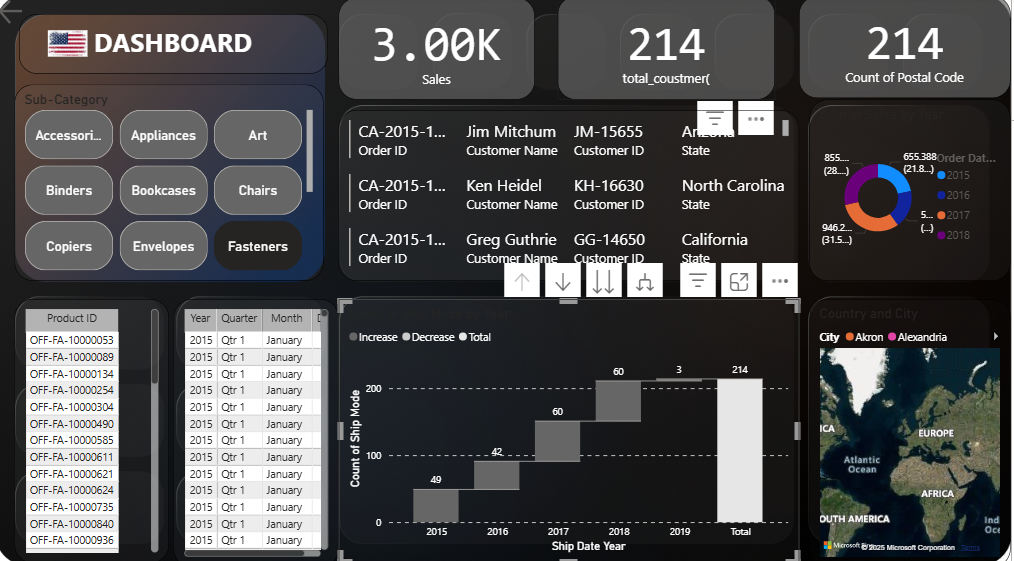

The dashboard page shown, as its layout file describes it:
{"tool":"powerbi","page":{"name":"Page 1","canvas":[1280,720],"ordinal":0},"visuals":[{"type":"map","fields":{"Category":["train.Country"],"Series":["train.City"]},"box":[1026.1,381.7,253.2,338.3],"z":0},{"type":"donutChart","fields":{"Category":["train.Order Date.Variation.Date Hierarchy.Year","train.Order Date.Variation.Date Hierarchy.Quarter","train.Order Date.Variation.Date Hierarchy.Month","train.Order Date.Variation.Date Hierarchy.Day"],"Y":["train.Sales"]},"box":[1026.1,130.4,253.2,228.7],"z":1000},{"type":"card","fields":{"Values":["train.Sales"]},"box":[458.7,0,221.2,130.1],"z":2000},{"type":"card","fields":{"Values":["train.Postal Code"]},"box":[1012.9,0,266.5,128.5],"z":3000},{"type":"waterfallChart","fields":{"Category":["train.Ship Date.Variation.Date Hierarchy.Year","train.Ship Date.Variation.Date Hierarchy.Quarter","train.Ship Date.Variation.Date Hierarchy.Month","train.Ship Date.Variation.Date Hierarchy.Day"],"Y":["train.Ship Mode"]},"box":[432.8,381.7,580.2,332.6],"z":4000},{"type":"textbox","box":[30.2,22.7,389.3,75.6],"z":5000},{"type":"image","box":[24.6,37.8,134.2,43.5],"z":6000},{"type":"advancedSlicerVisual","fields":{"Values":["train.Sub-Category"]},"box":[24.6,111.5,389.3,247.6],"z":7000},{"type":"card","fields":{"Values":["train.total_coustmer("]},"box":[710.8,0,271.6,130.1],"z":8000},{"type":"actionButton","box":[0,0,100,40],"z":9000},{"type":"tableEx","fields":{"Values":["train.Product ID"]},"box":[24.6,381.7,194.6,332.6],"z":10000},{"type":"tableEx","fields":{"Values":["train.Ship Date.Variation.Date Hierarchy.Year","train.Ship Date.Variation.Date Hierarchy.Quarter","train.Ship Date.Variation.Date Hierarchy.Month","train.Ship Date.Variation.Date Hierarchy.Day"]},"box":[224.9,381.7,207.9,338.3],"z":11000},{"type":"multiRowCard","fields":{"Values":["train.Order ID","train.Customer Name","train.Customer ID","train.State"]},"box":[432.8,143.6,580.2,215.4],"z":11001}]}

Visuals, with their boxes in screenshot pixels (x1, y1, x2, y2), scaled from the page's 1280x720 canvas onto the 1014x561 screenshot:
map - train.Country x train.City: 813, 297, 1013, 560
donutChart - train.Order Date.Variation.Date Hierarchy.Year x train.Order Date.Variation.Date Hierarchy.Quarter: 813, 102, 1013, 280
card - train.Sales: 363, 0, 539, 101
card - train.Postal Code: 802, 0, 1013, 100
waterfallChart - train.Ship Date.Variation.Date Hierarchy.Year x train.Ship Date.Variation.Date Hierarchy.Quarter: 343, 297, 802, 557
textbox: 24, 18, 332, 77
image: 19, 29, 126, 63
advancedSlicerVisual - train.Sub-Category: 19, 87, 328, 280
card - train.total_coustmer(: 563, 0, 778, 101
actionButton: 0, 0, 79, 31
tableEx - train.Product ID: 19, 297, 174, 557
tableEx - train.Ship Date.Variation.Date Hierarchy.Year x train.Ship Date.Variation.Date Hierarchy.Quarter: 178, 297, 343, 560
multiRowCard - train.Order ID x train.Customer Name: 343, 112, 802, 280
